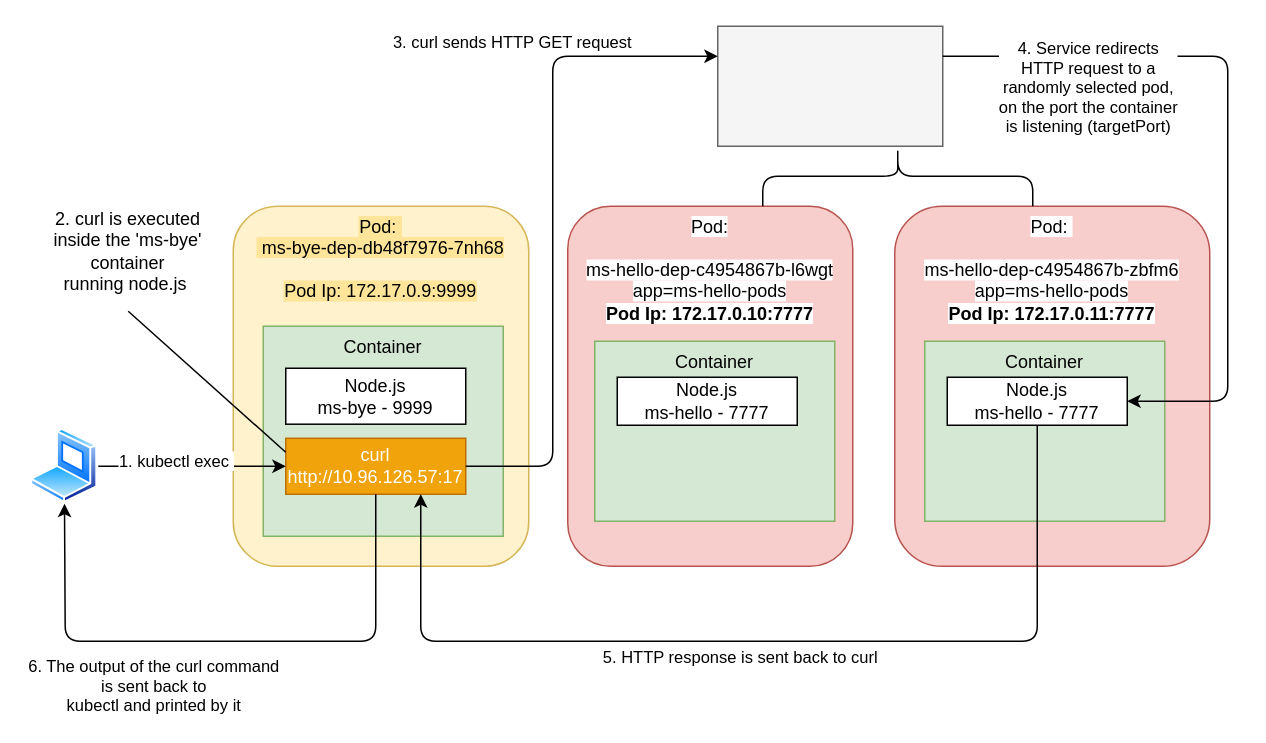
Image size: 1266x743. Some labels were removed from this diagram. Each missing label, with the centre of its shape:
"http client" goes at pixel 64 465.
"Service 'ms-hello-svc' SELECTOR: app=ms-hello-pods 10.96.126.57:17" goes at pixel 829 85.
